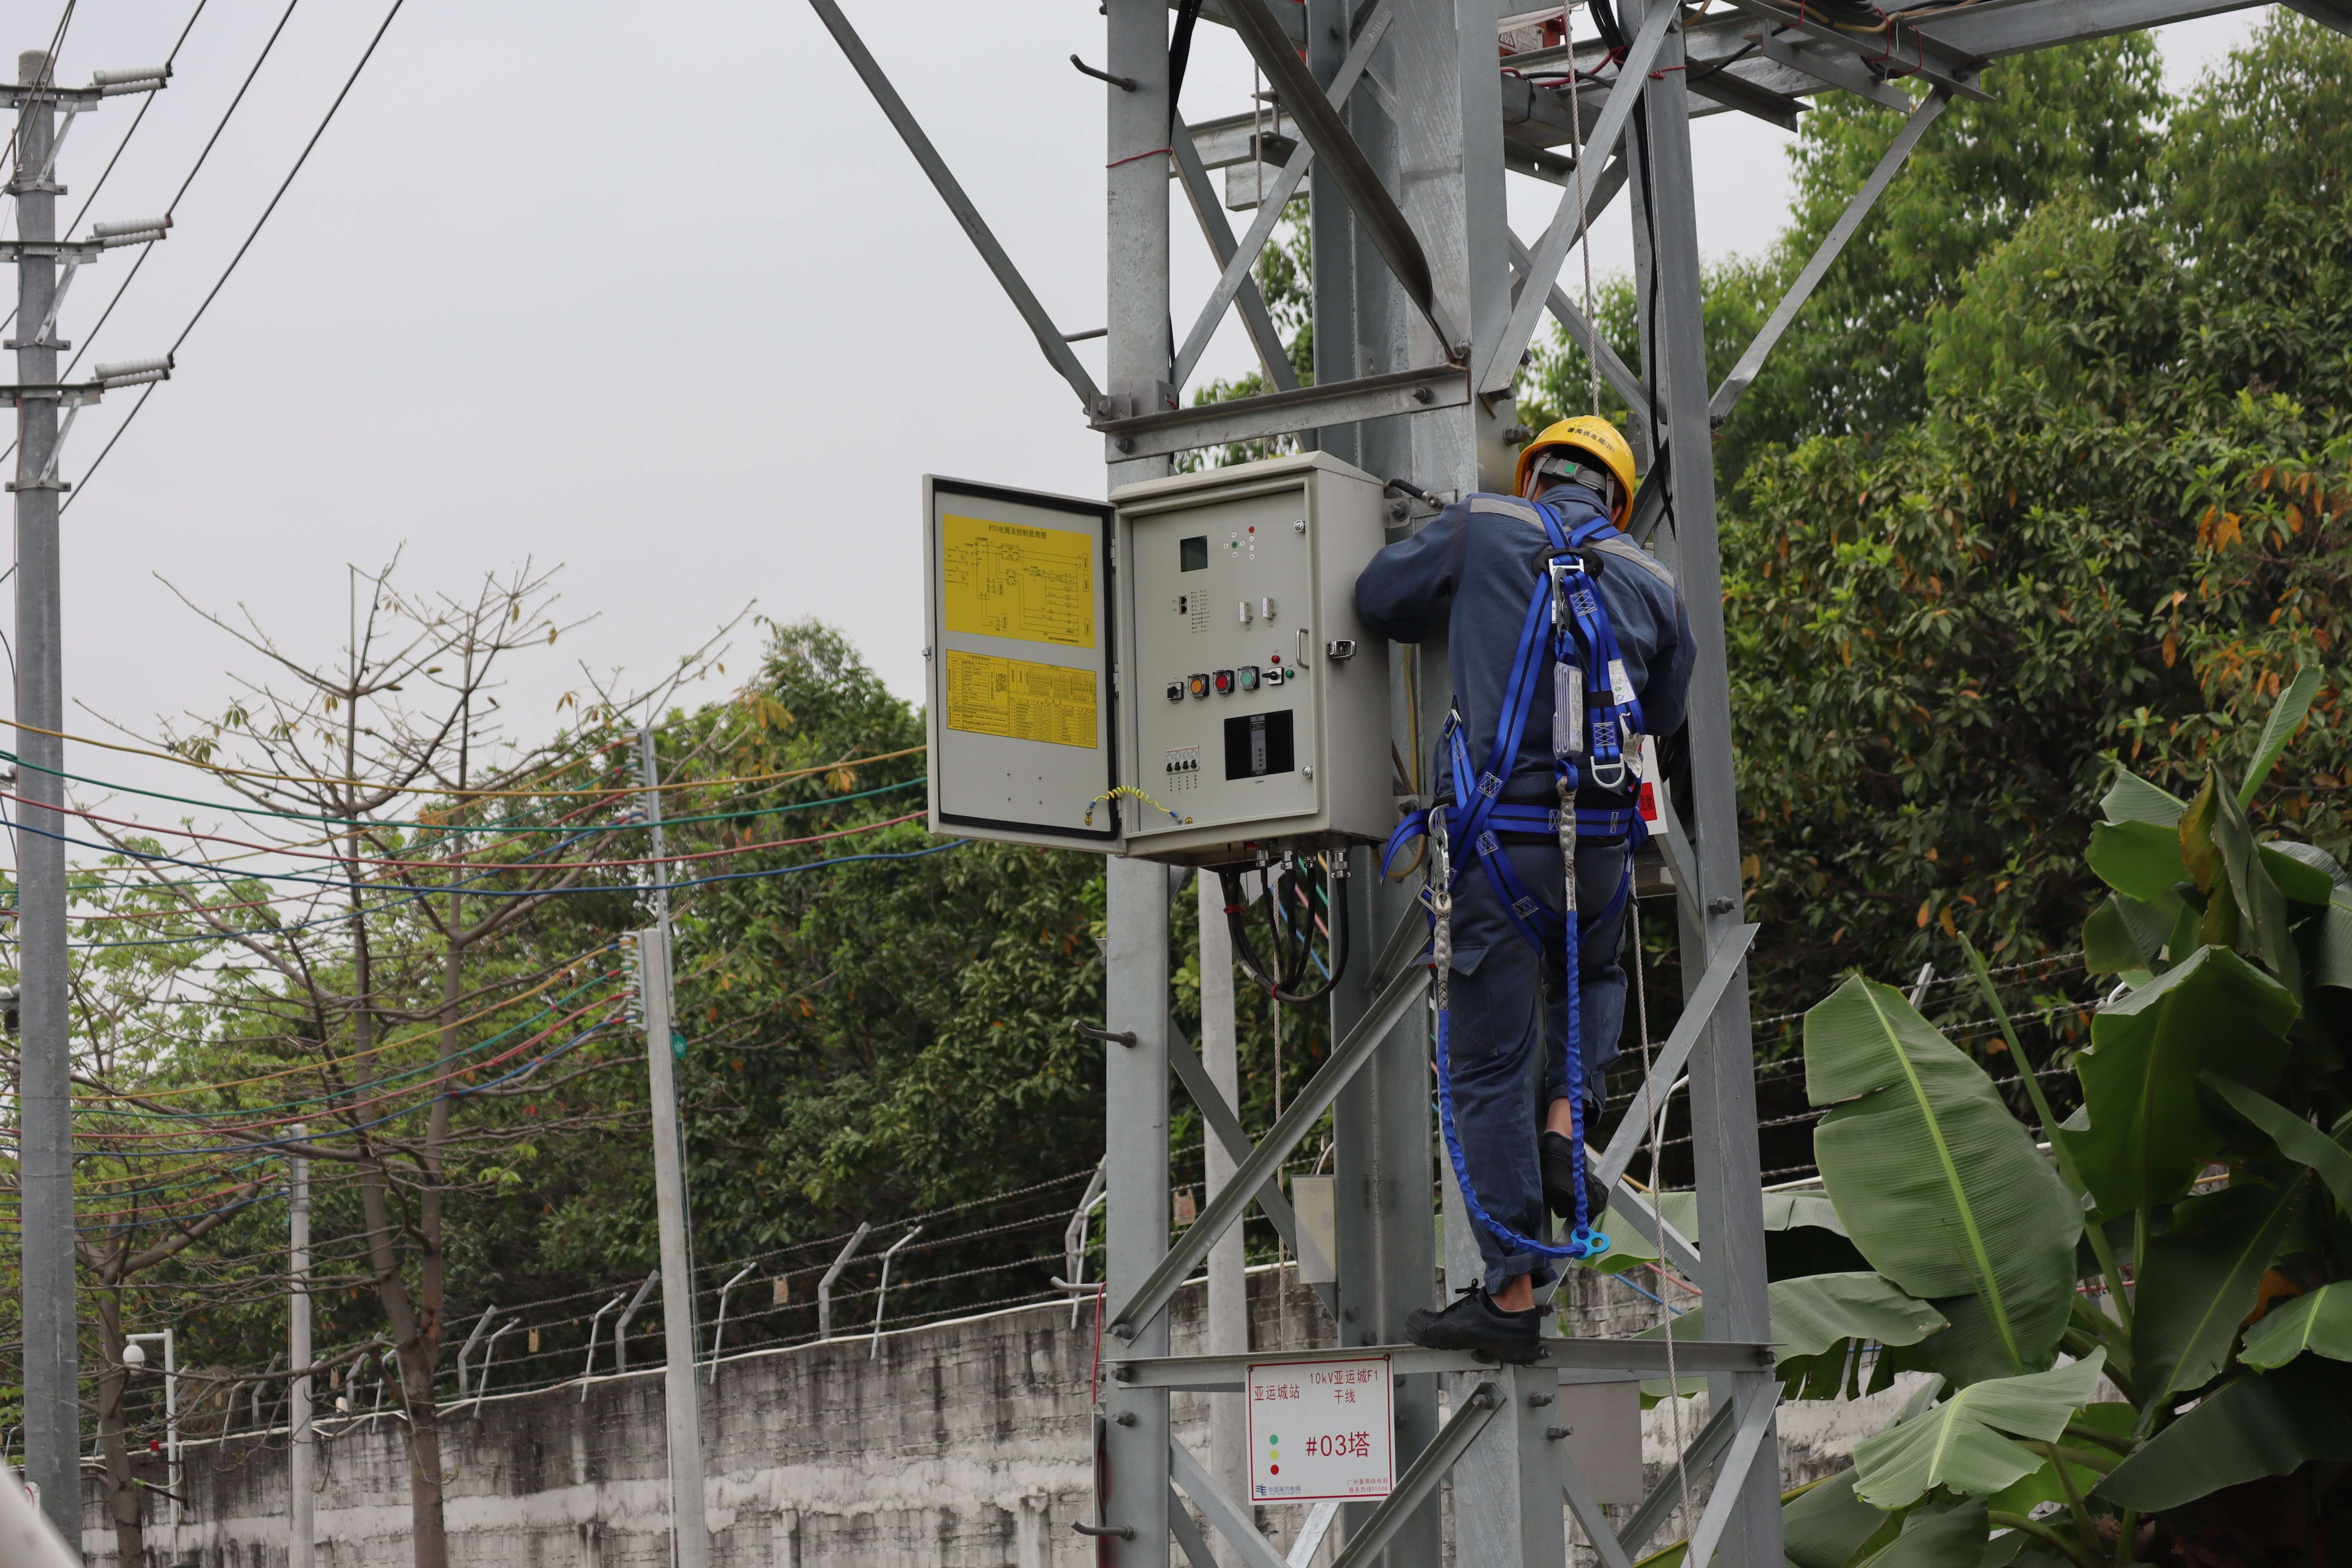downsuit: (1435, 829, 1643, 1279)
upsuit: (1370, 485, 1689, 824)
